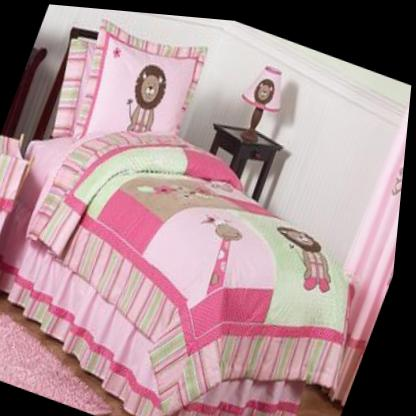Bed: (0, 17, 353, 416)
